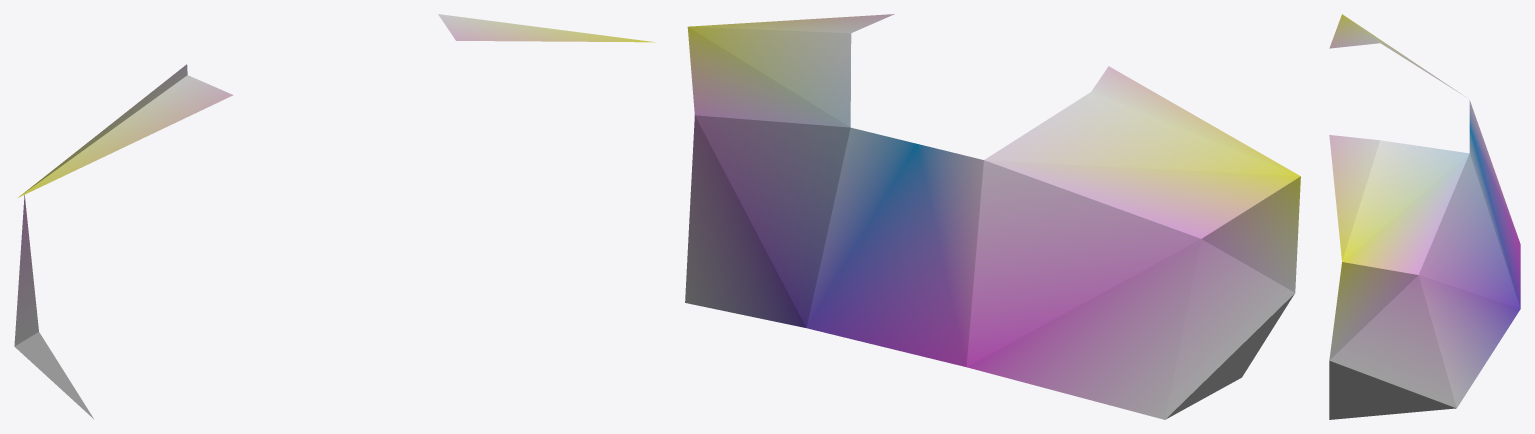
The picture shows the model from 3 angles, left to right: view 1: azimuth 30°, elevation 25°; view 2: azimuth 150°, elevation 25°; view 3: azimuth 270°, elevation 25°; orthographic projection. The views are drawn at different scales.
Parts seen in each view (by area): view 1: model_10F8; view 2: model_10F8; view 3: model_10F8.
Boxes of the visible parts, bbox=[...] form: model_10F8: bbox=[14, 14, 654, 418]; model_10F8: bbox=[685, 14, 1300, 419]; model_10F8: bbox=[1329, 14, 1520, 419].
Size of the model in its own units: 46 by 20 by 15.
